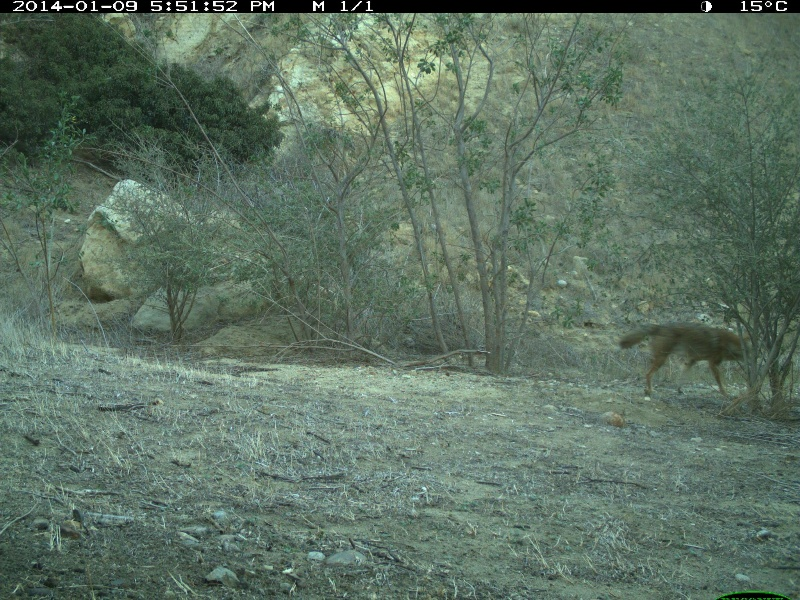coyote: (619, 319, 765, 403)
